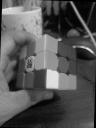rubik: (16, 32, 78, 90)
